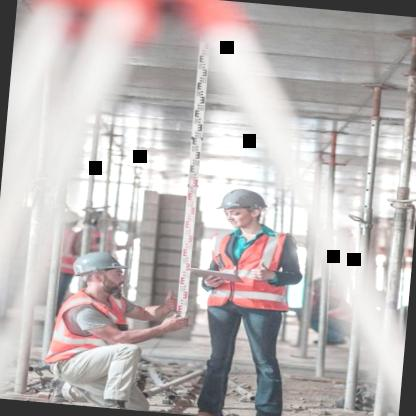helmet: (70, 250, 130, 300), (218, 184, 274, 232)
